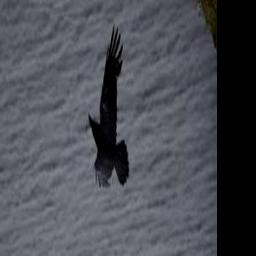Crow: (88, 25, 129, 193)
